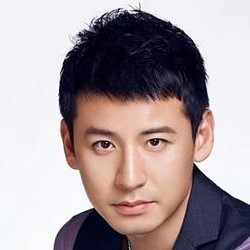unmask: (71, 90, 195, 232)
